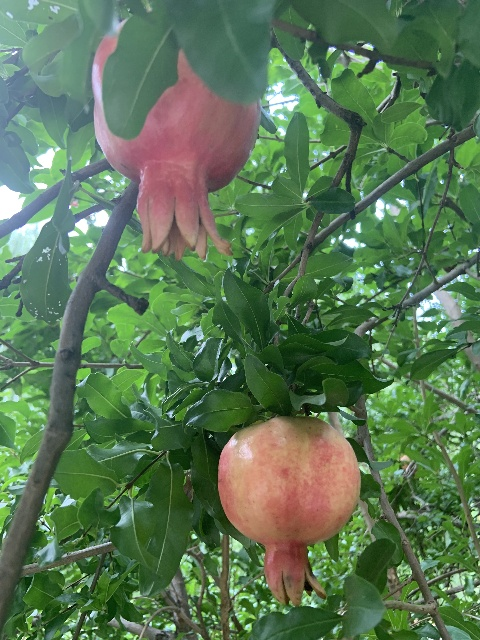ripe: (91, 20, 260, 259), (216, 416, 360, 606)
